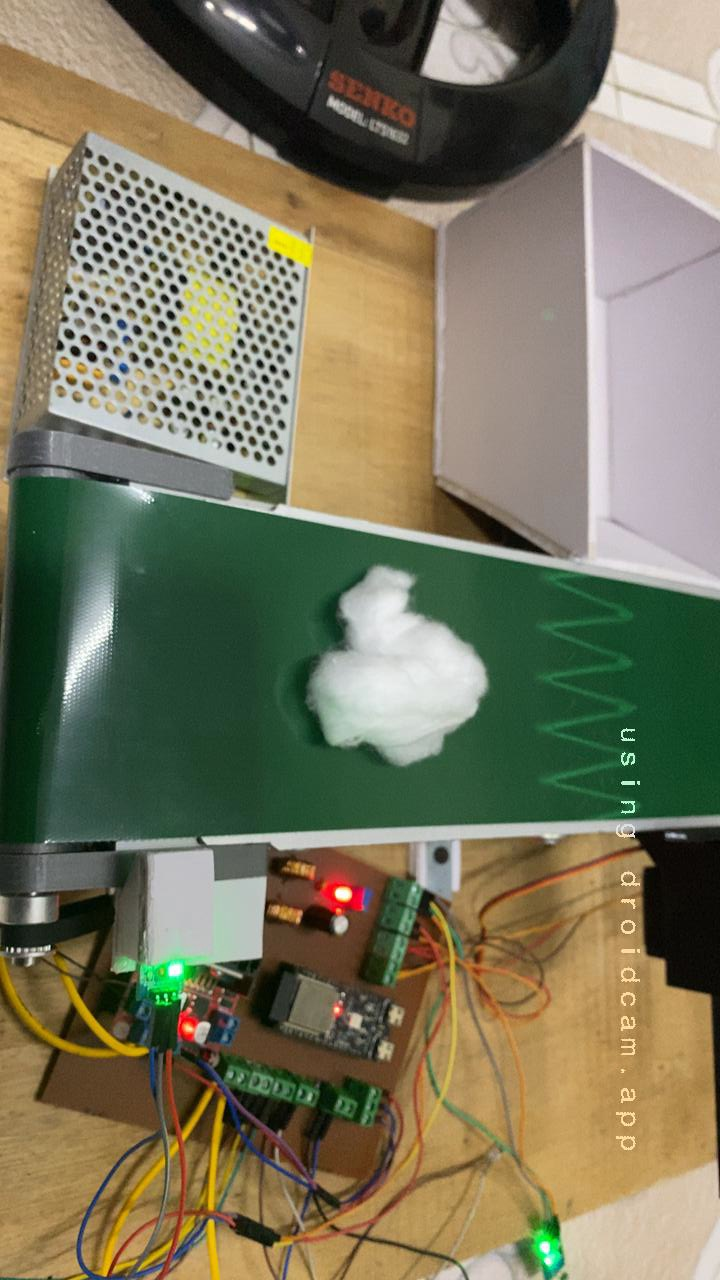cotton: (276, 548, 506, 784)
